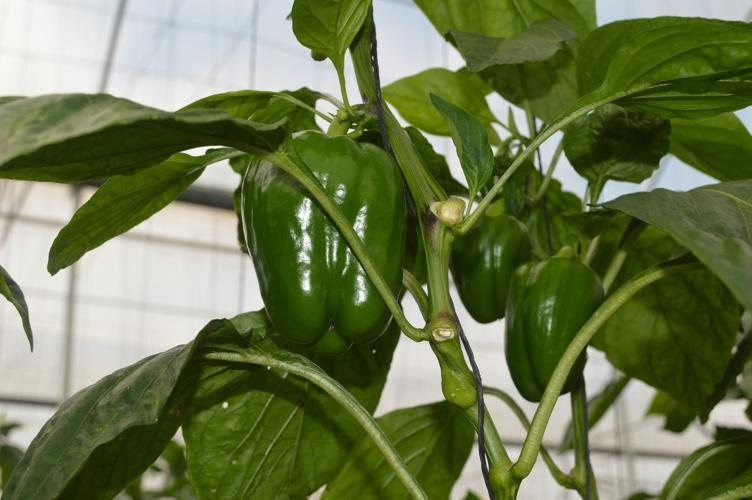BellPepper: (242, 131, 405, 348), (504, 260, 602, 397), (451, 211, 526, 322)
